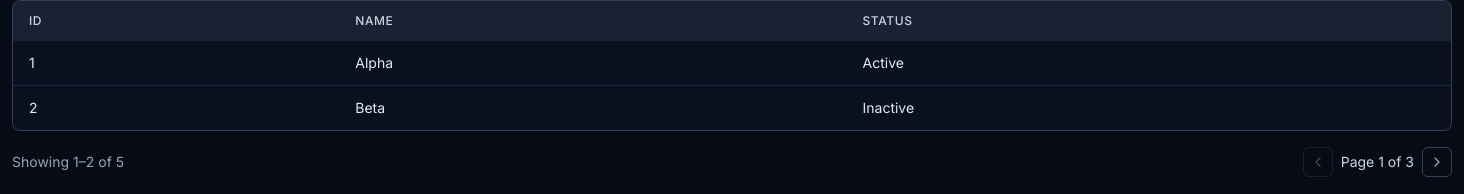
Test: DataTable › paginates data based on pageSize
Expected: the text "Alpha" is shown, [339,41,846,86]
Expected: the text "Beta" is shown, [339,86,846,130]
# Navigate to next page
Click the button named "Next page" at (1437, 162), box [1422,147,1452,177]
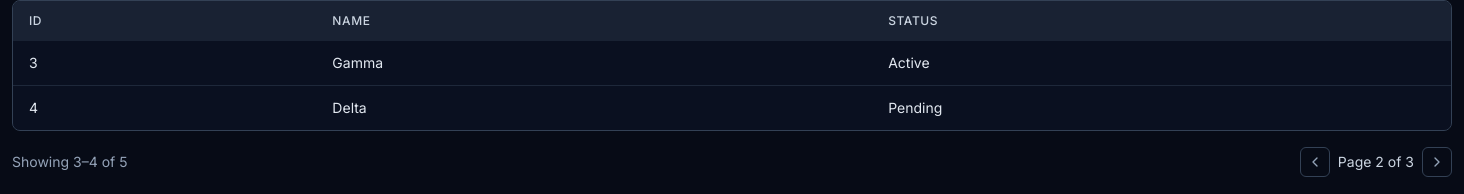
Expected: the text "Gamma" is shown, [316,41,872,86]
Expected: the text "Delta" is shown, [316,86,872,130]
